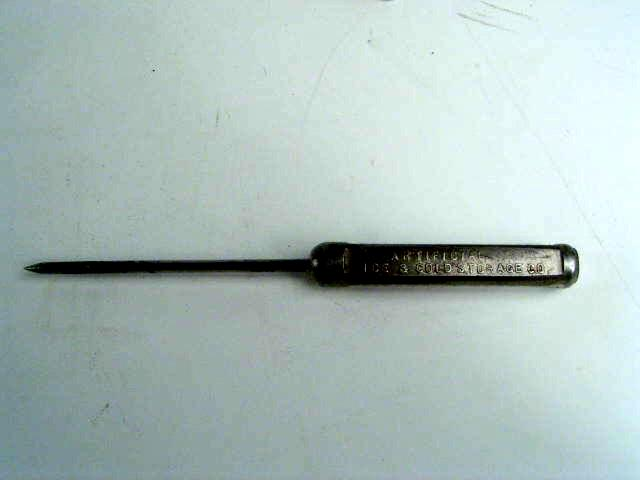ice pick: (24, 243, 580, 287)
